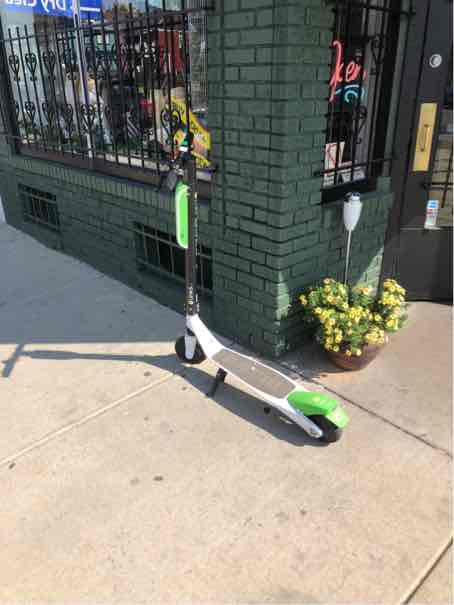scooter: (135, 128, 348, 448)
